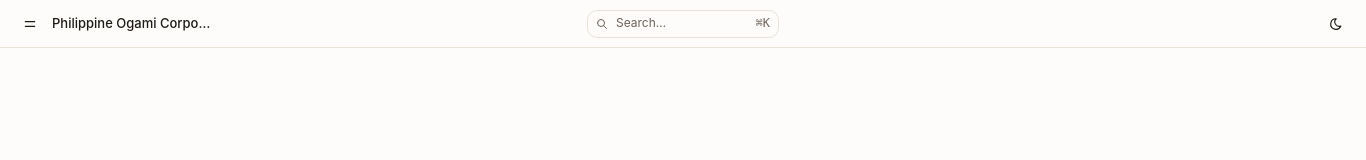
Scenario: Topbar company identity › reveals the full legal name when the brand link receives keyboard focus
Step 1. Focus the link "Philippine Ogami Corporation" → (132, 24), box [52,14,212,33]
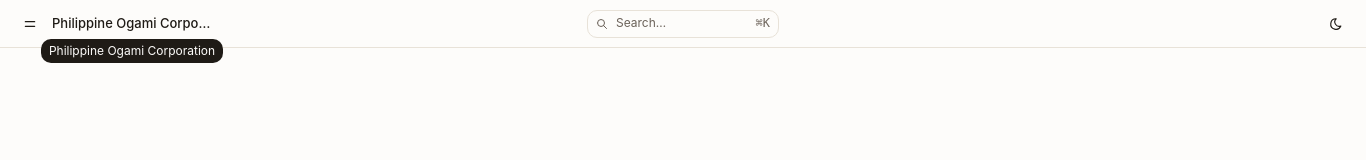
Now the tooltip reads "Philippine Ogami Corporation", box [49,43,215,58]
